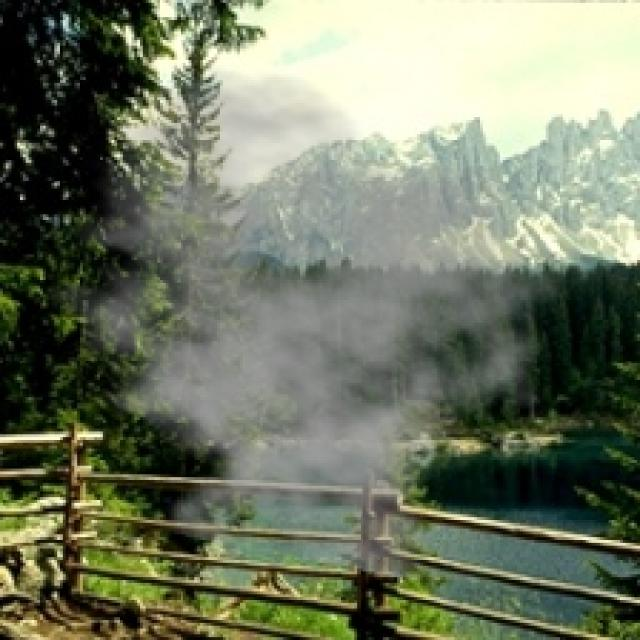smoke: (26, 66, 566, 583)
